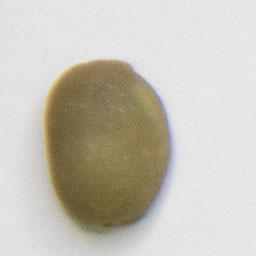premium: (40, 56, 174, 233)
